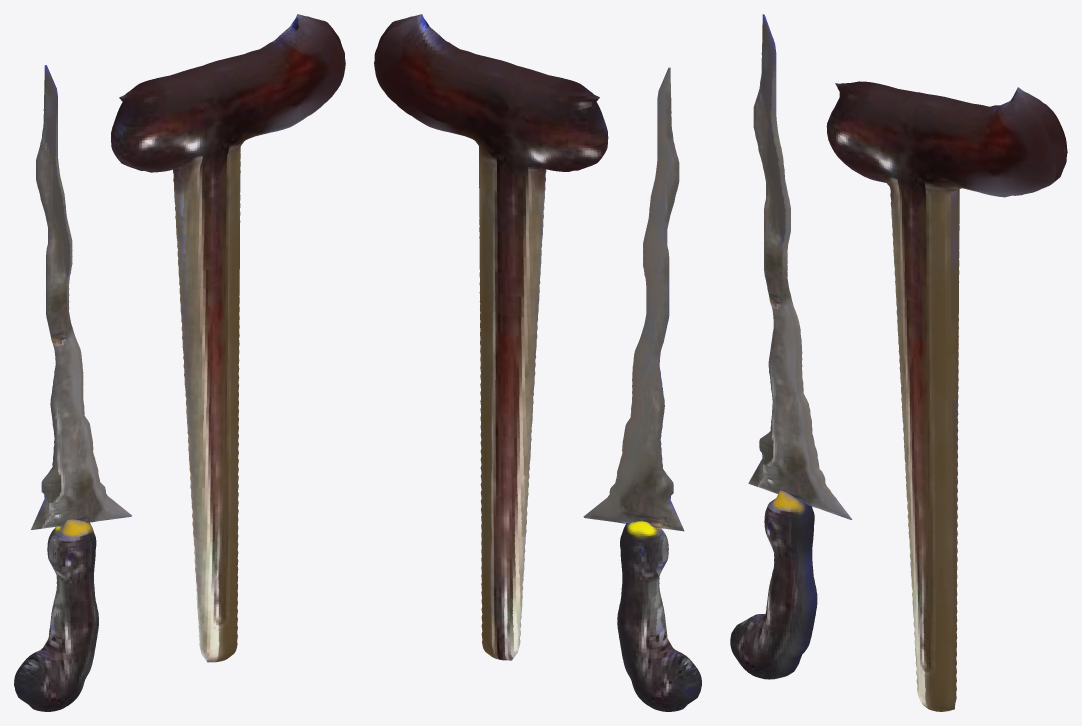
The model's file is keris_surakarta.glb.
The picture shows the model from 3 angles, left to right: view 1: azimuth 30°, elevation 25°; view 2: azimuth 150°, elevation 25°; view 3: azimuth 330°, elevation 25°; orthographic projection. The views are drawn at different scales.
Parts seen in each view (by area): view 1: root_Material_136_0, root_Material_132_0, root_Material_134_0; view 2: root_Material_136_0, root_Material_132_0, root_Material_134_0; view 3: root_Material_136_0, root_Material_132_0, root_Material_134_0.
Part boxes in pixels (left/top/right/bottom): root_Material_136_0: left=111, top=14, right=345, bottom=662; root_Material_132_0: left=31, top=65, right=131, bottom=529; root_Material_134_0: left=14, top=519, right=98, bottom=711; root_Material_136_0: left=374, top=14, right=608, bottom=660; root_Material_132_0: left=583, top=67, right=684, bottom=531; root_Material_134_0: left=617, top=521, right=701, bottom=711; root_Material_136_0: left=826, top=81, right=1067, bottom=711; root_Material_132_0: left=748, top=14, right=852, bottom=519; root_Material_134_0: left=730, top=490, right=817, bottom=679.
Size of the model in its own units: 0.1435 by 0.2719 by 0.0206.
Materials: 3 (3 with a texture image).
